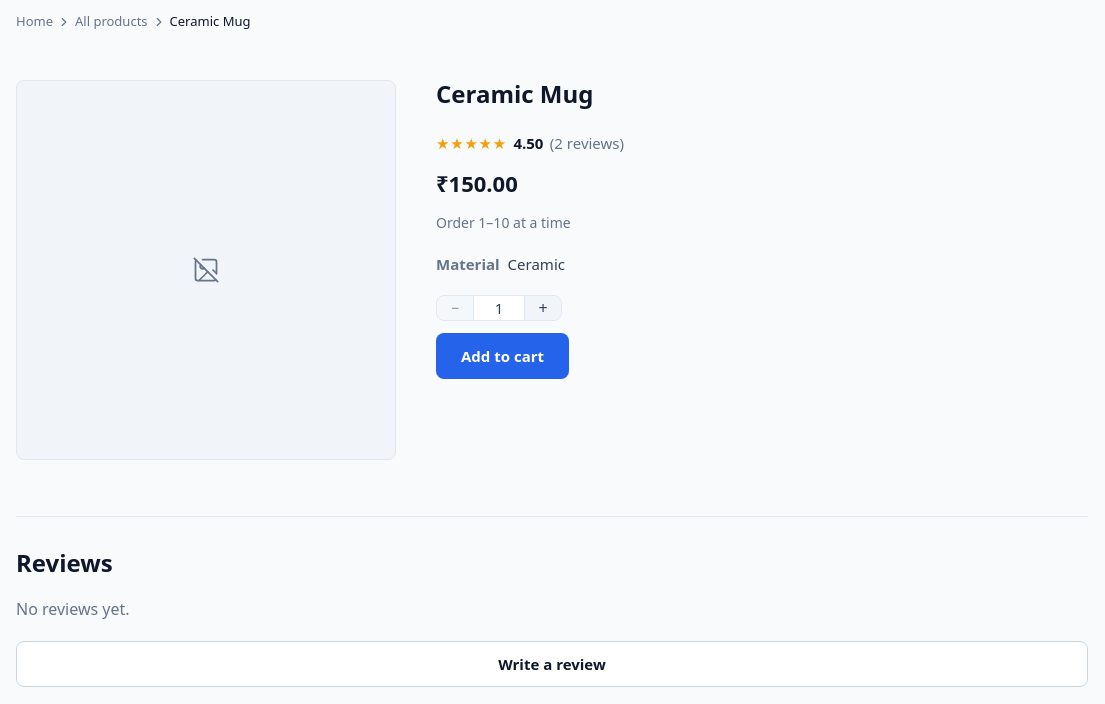
it: ProductDetailPage › surfaces the server validation error when adding to cart is rejected
Expected: the heading "Ceramic Mug" is shown, [436, 76, 594, 110]
Click the button "Add to cart".
click(502, 356)  # box [436, 333, 569, 379]
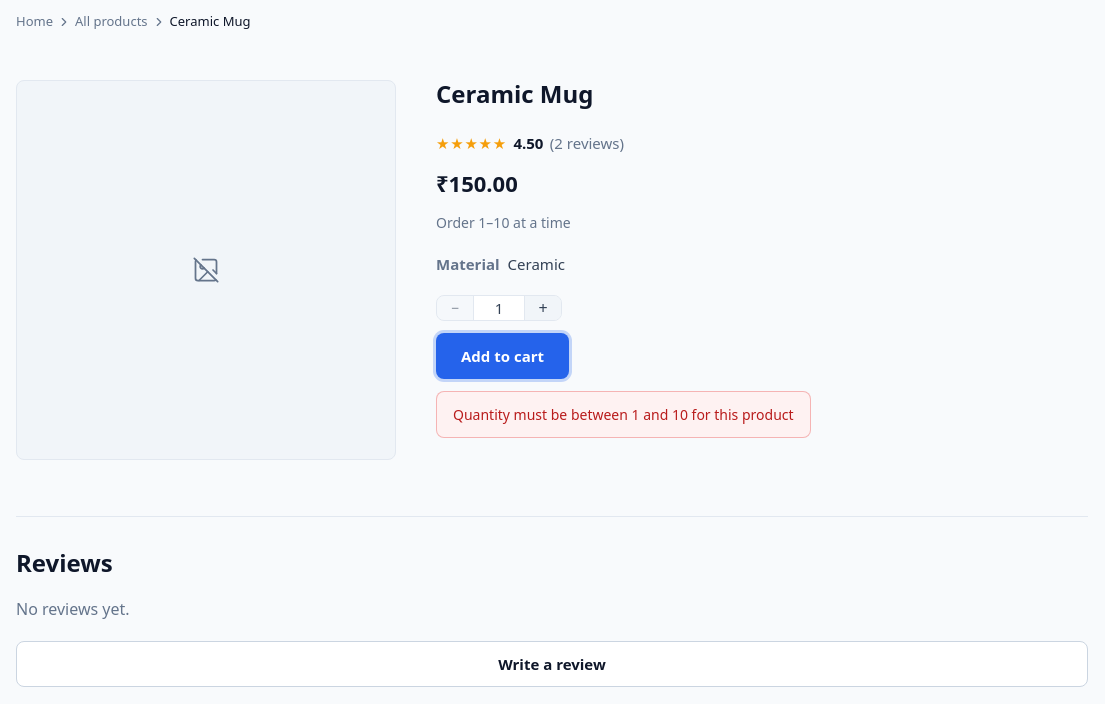
Expected: the text "Quantity must be between 1 and 10 for this product" is shown, [436, 391, 811, 438]
